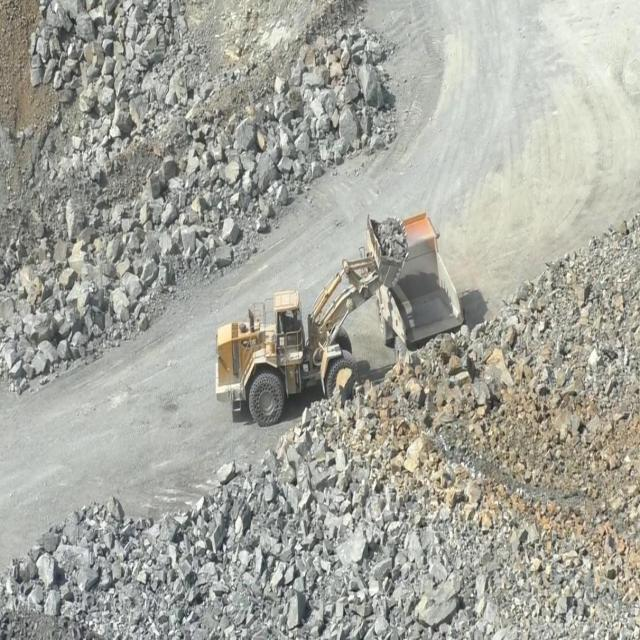Dump Truck: (376, 214, 466, 353)
Loader: (213, 216, 414, 427)
